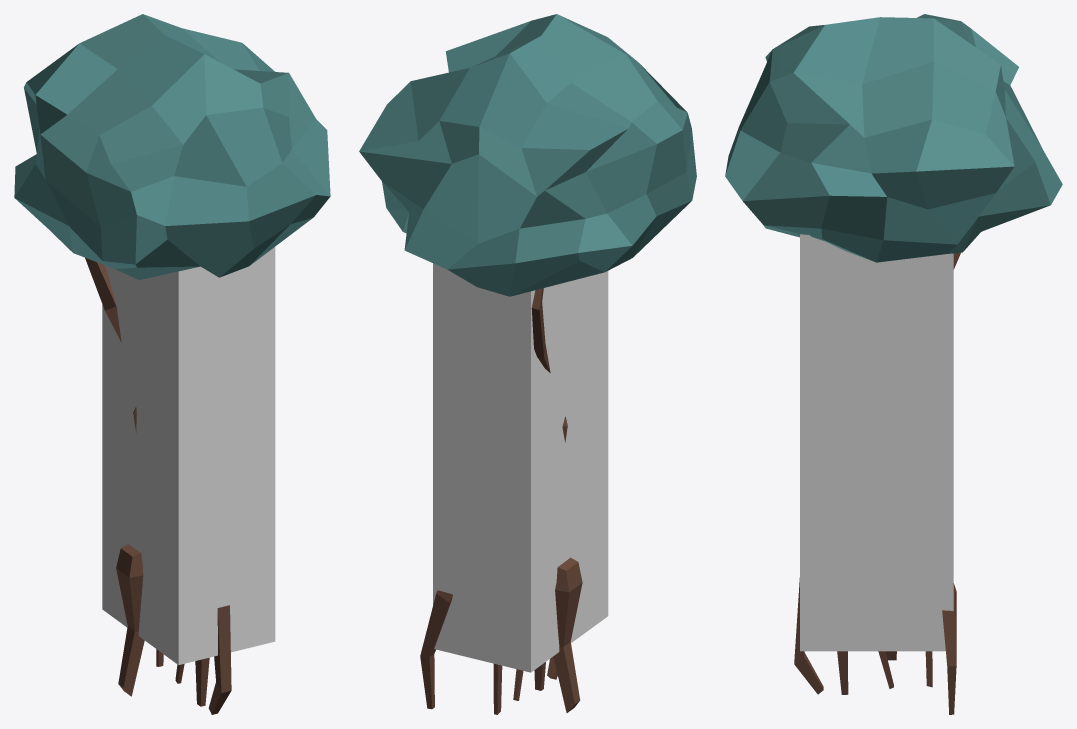
Rendered from ruins_tree_1.glb.
3 views of the same model, side by side, from view 1: azimuth 30°, elevation 25°; view 2: azimuth 150°, elevation 25°; view 3: azimuth 270°, elevation 25° (orthographic).
Parts seen in each view (by area): view 1: Cube.135, Cube; view 2: Cube.135, Cube; view 3: Cube.135, Cube.
Part boxes in pixels (x1,y1,x2,y2): Cube.135: [14, 14, 330, 714]; Cube: [102, 247, 275, 665]; Cube.135: [359, 14, 696, 714]; Cube: [433, 263, 608, 672]; Cube.135: [725, 14, 1062, 714]; Cube: [800, 234, 953, 651].
Size of the model in its own units: 5.33 by 13.1 by 6.
Materials: 1 (1 with a texture image).
